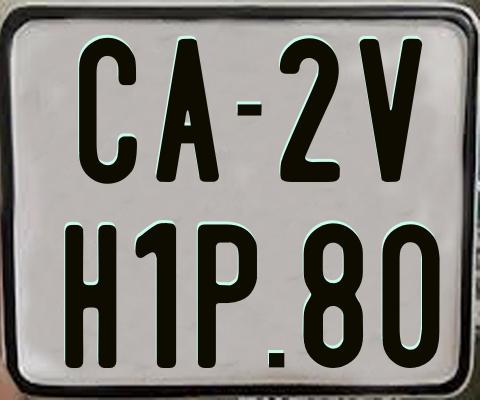0: (381, 221, 441, 366)
1: (133, 220, 180, 369)
2: (278, 35, 342, 180)
8: (301, 223, 361, 373)
A: (155, 38, 218, 187)
C: (79, 37, 143, 186)
H: (62, 224, 119, 372)
P: (198, 223, 259, 369)
V: (358, 38, 421, 185)
